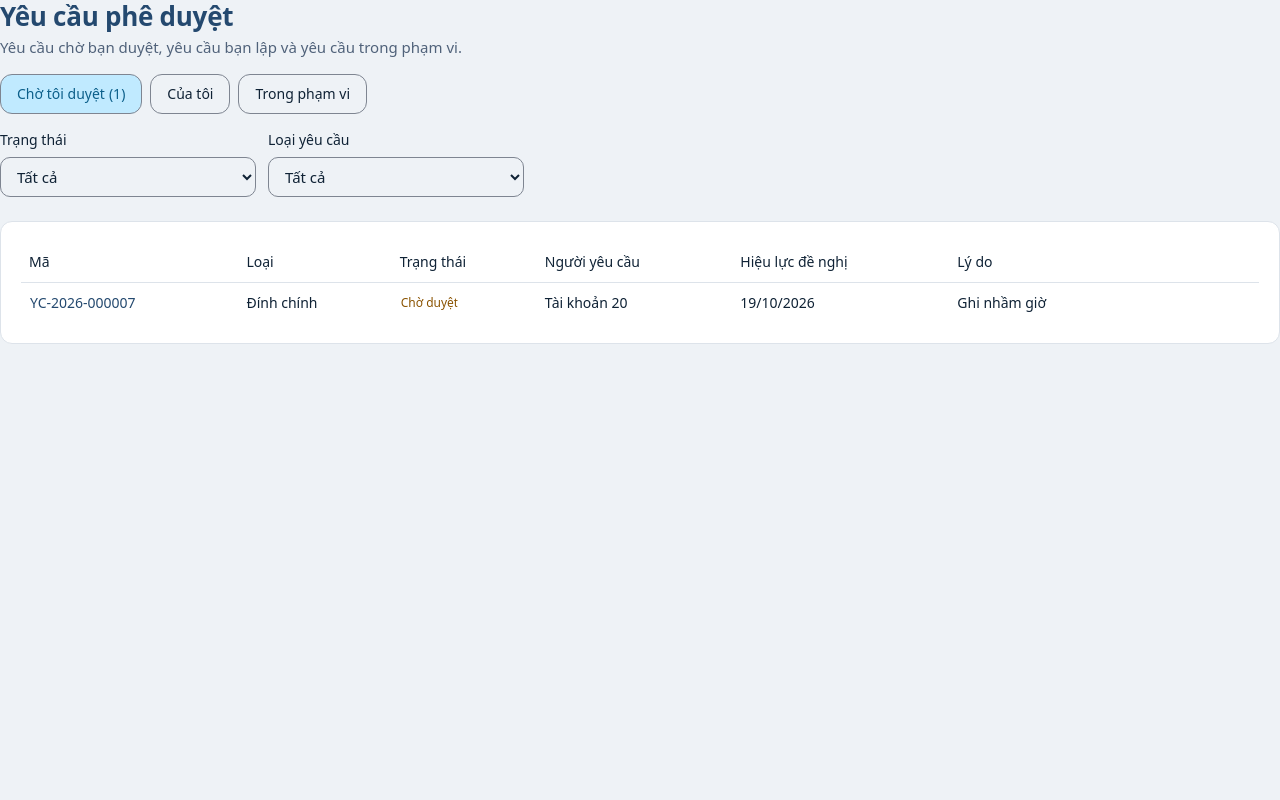
it: ApprovalInbox › FR_035_tuDuyetKhongYKien_422_baoTaiOYKien
What coordinates should you click on to do the following:
click the button "YC-2026-000007"
I would click on:
 (83, 303)
Its box is [29,292,137,314].
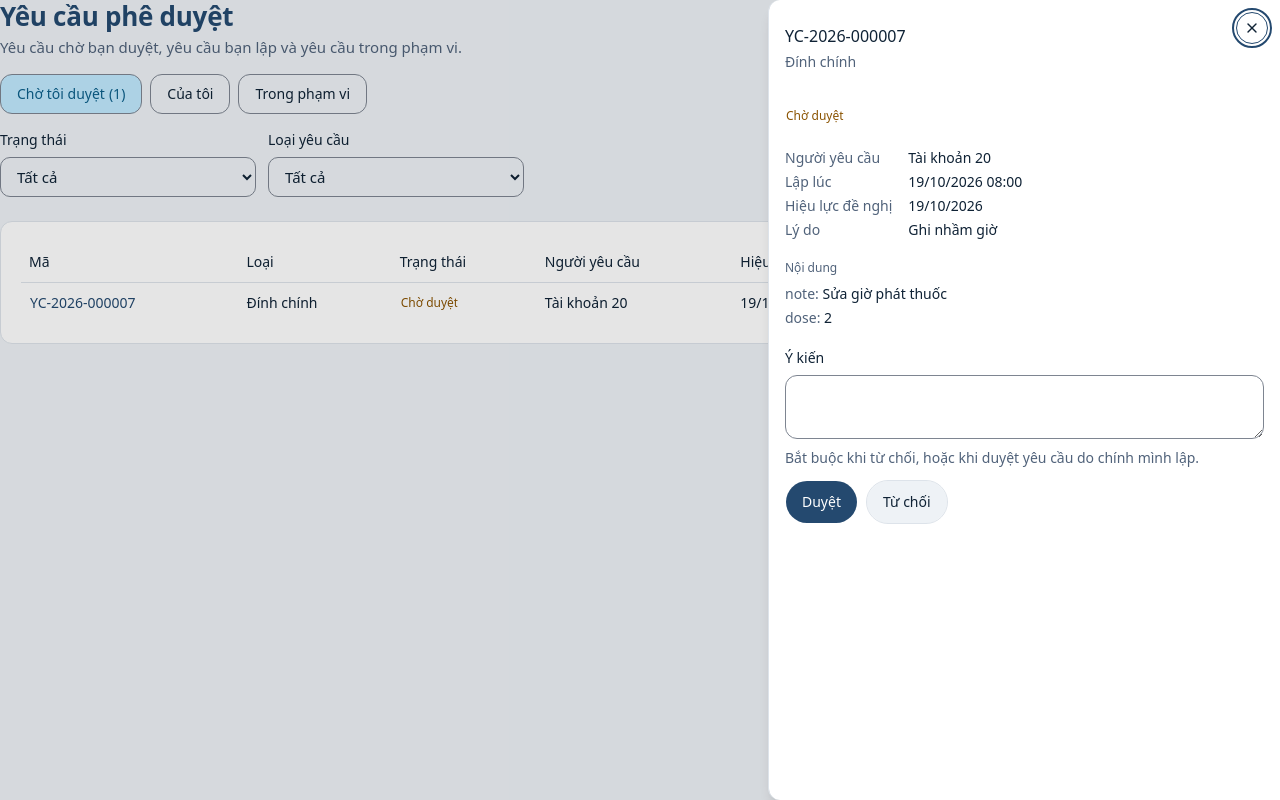
What coordinates should you click on to do the following:
click the button "Duyệt"
I would click on:
 (822, 502)
Its box is [785,480,858,524].
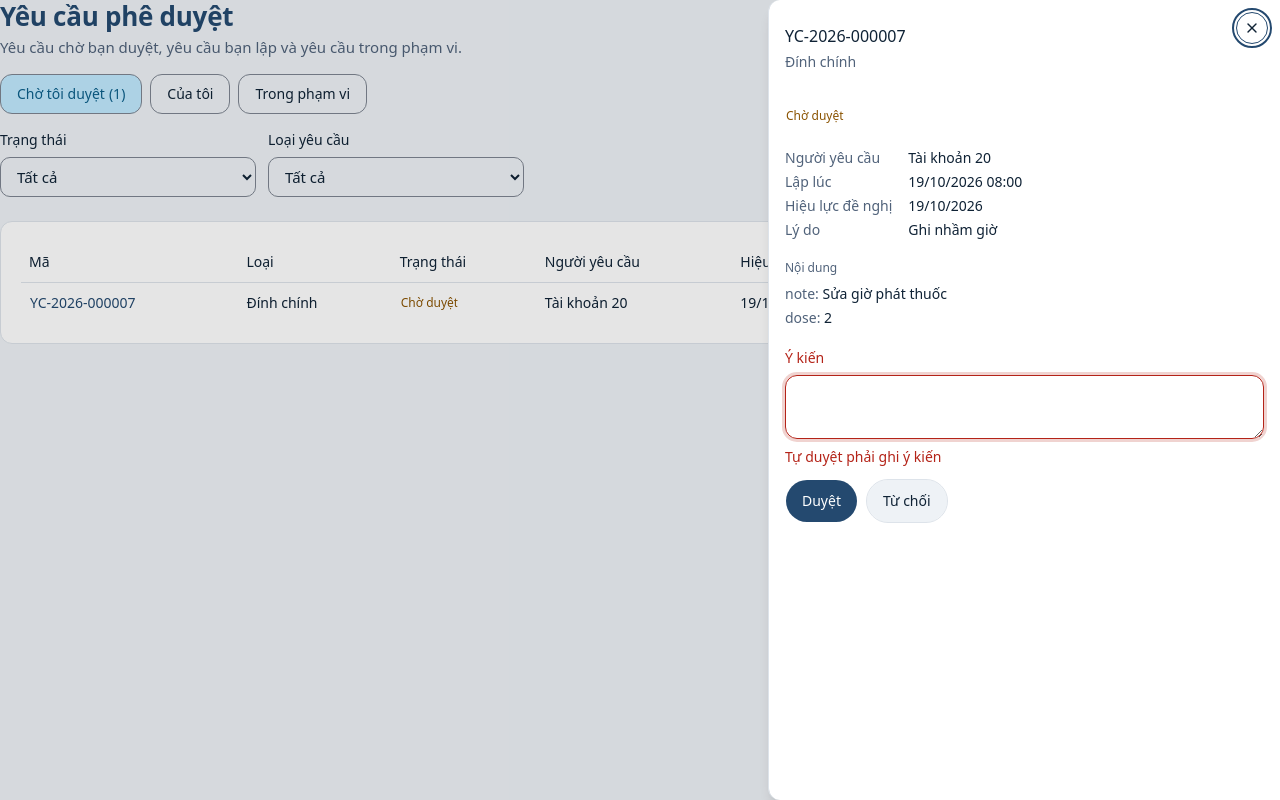
Now the text "Tự duyệt phải ghi ý kiến" is shown, box [785,447,942,466]
